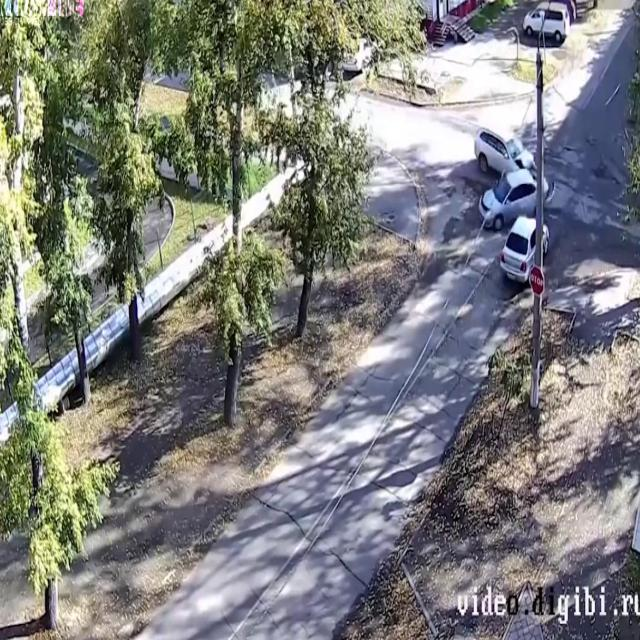accident: (467, 114, 557, 290)
